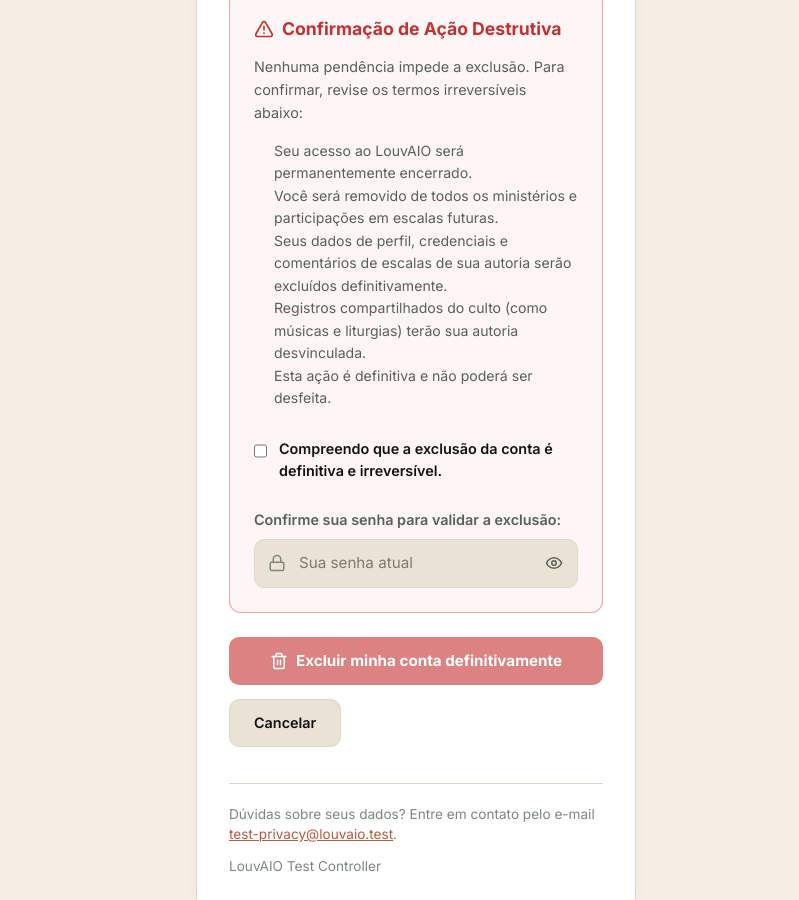
AccountDeletionView › Reauthentication, Deletion Execution & States › executes deletion successfully after fresh reauthentication and cleans up
(page scrolled)
expect the button "Excluir minha conta definitivamente" is disabled: met, box [229,637,603,685]
Click the checkbox labelled "Compreendo que a exclusão da conta é definitiva e irreversível" at (260, 451), box [254,442,267,460]
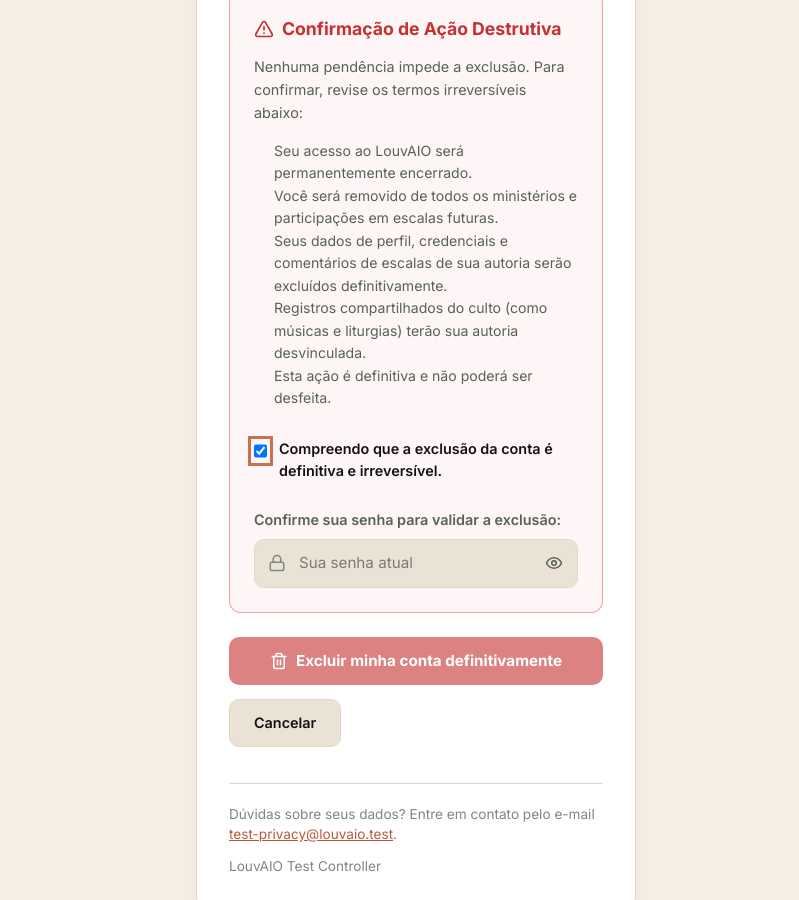
Type "MinhaSenhaForte!123" into the password field labelled "Confirme sua senha para validar a exclusão:" at (416, 563), box [254,539,578,588]
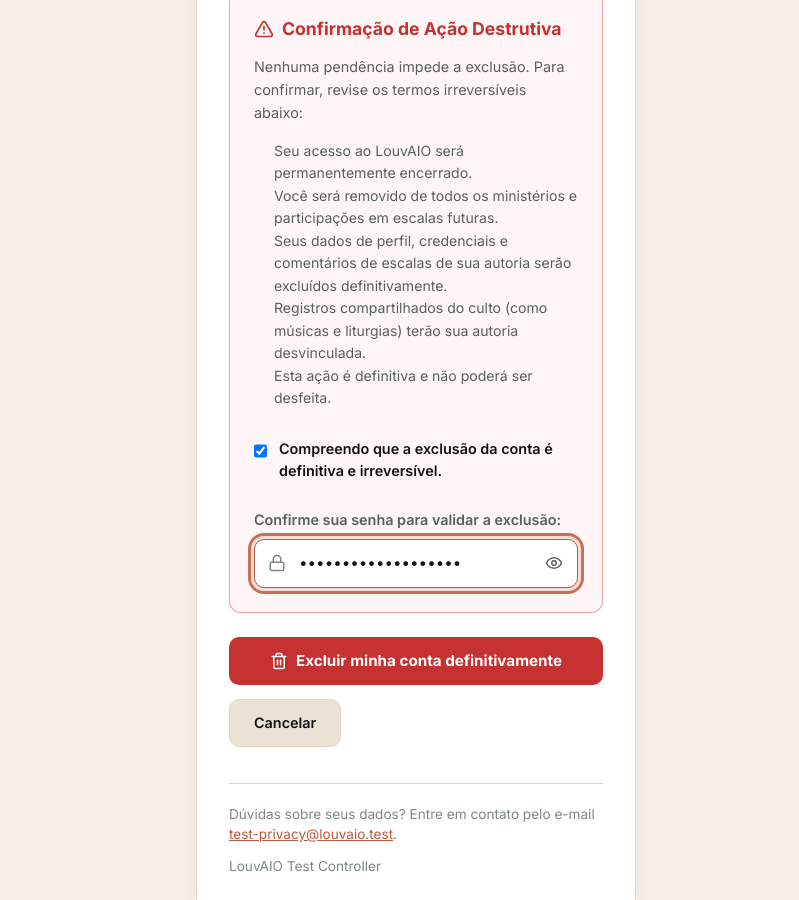
expect the button "Excluir minha conta definitivamente" is enabled: met
Click the button "Excluir minha conta definitivamente" at (416, 661), box [229,637,603,685]
(page scrolled)
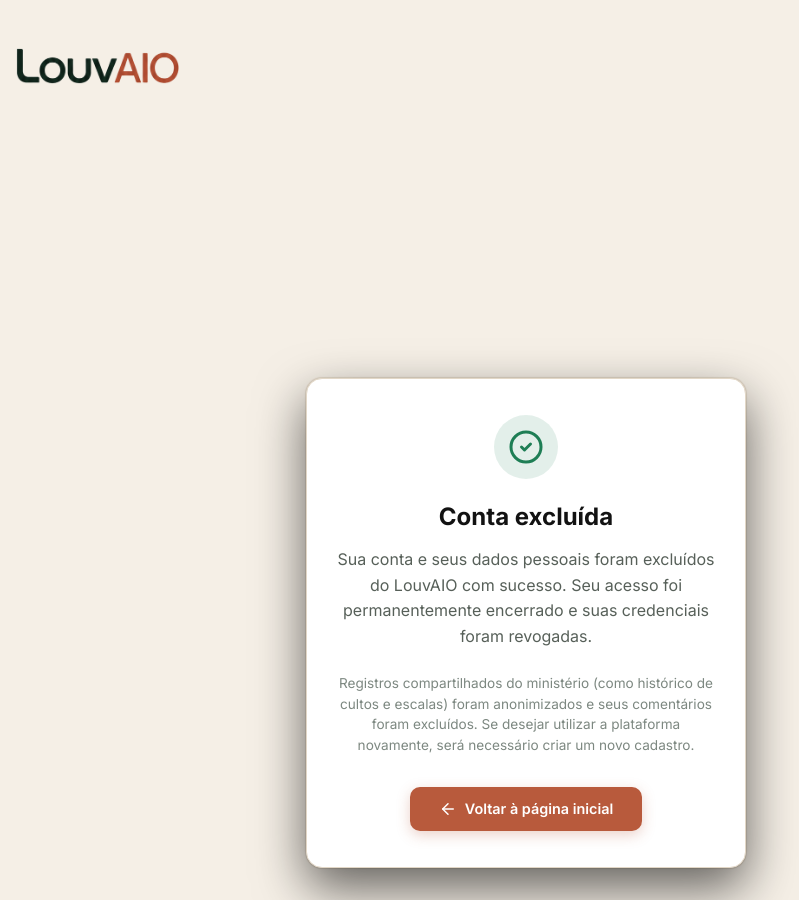
expect the heading "Conta excluída" is shown: met, box [439,502,613,531]
expect the text "Sua conta e seus dados pessoais foram excluídos" is shown: met, box [338,549,714,646]
